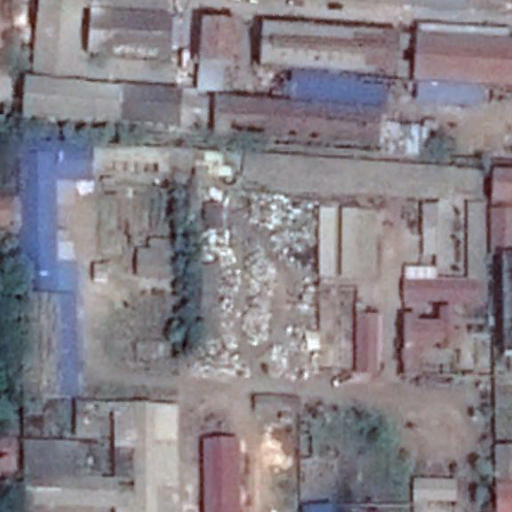msw: (193, 184, 323, 377)
